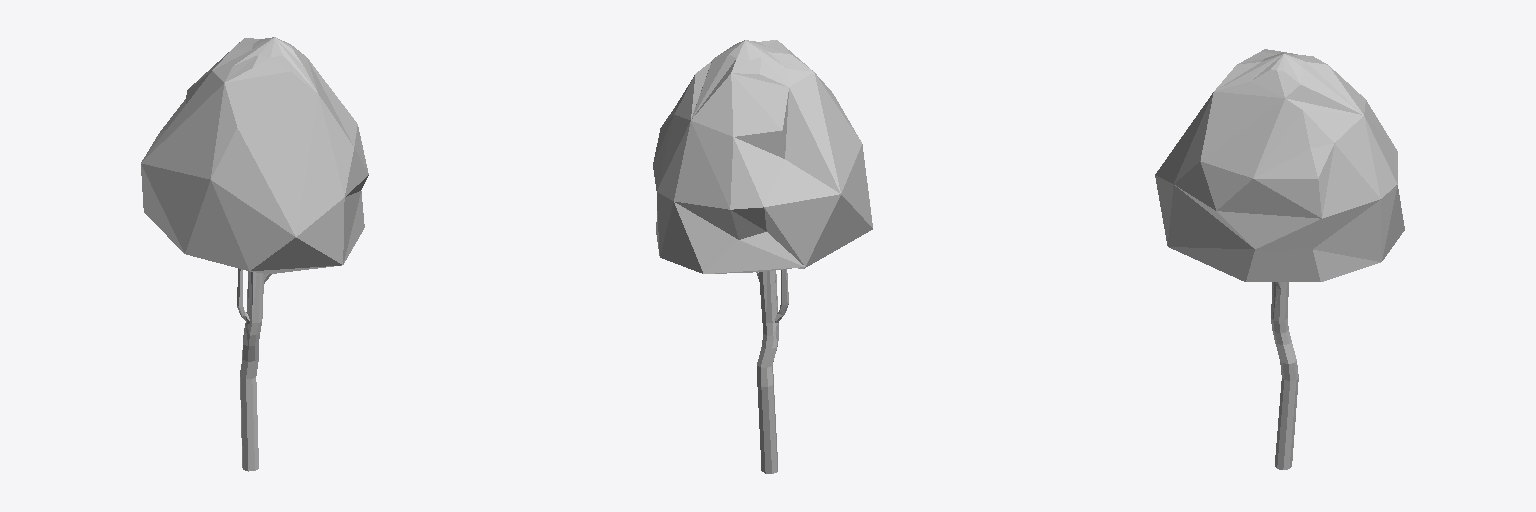
File: tree_birch_02.obj
3 views of the same model, side by side, from view 1: azimuth 30°, elevation 25°; view 2: azimuth 150°, elevation 25°; view 3: azimuth 270°, elevation 25° (orthographic).
Parts seen in each view (by area): view 1: tree_birch_02 geo_leavesClump08, geo_trunk09 tree_birch_02; view 2: tree_birch_02 geo_leavesClump08, geo_trunk09 tree_birch_02; view 3: tree_birch_02 geo_leavesClump08, geo_trunk09 tree_birch_02.
Boxes of the visible parts, x1,y1,x2,y2 form: tree_birch_02 geo_leavesClump08: [141, 37, 368, 273]; geo_trunk09 tree_birch_02: [237, 268, 271, 471]; tree_birch_02 geo_leavesClump08: [653, 40, 872, 273]; geo_trunk09 tree_birch_02: [756, 269, 788, 473]; tree_birch_02 geo_leavesClump08: [1155, 49, 1404, 281]; geo_trunk09 tree_birch_02: [1271, 282, 1298, 469].
Bounding box in the file's own units: 4.01 × 8.63 × 4.61.